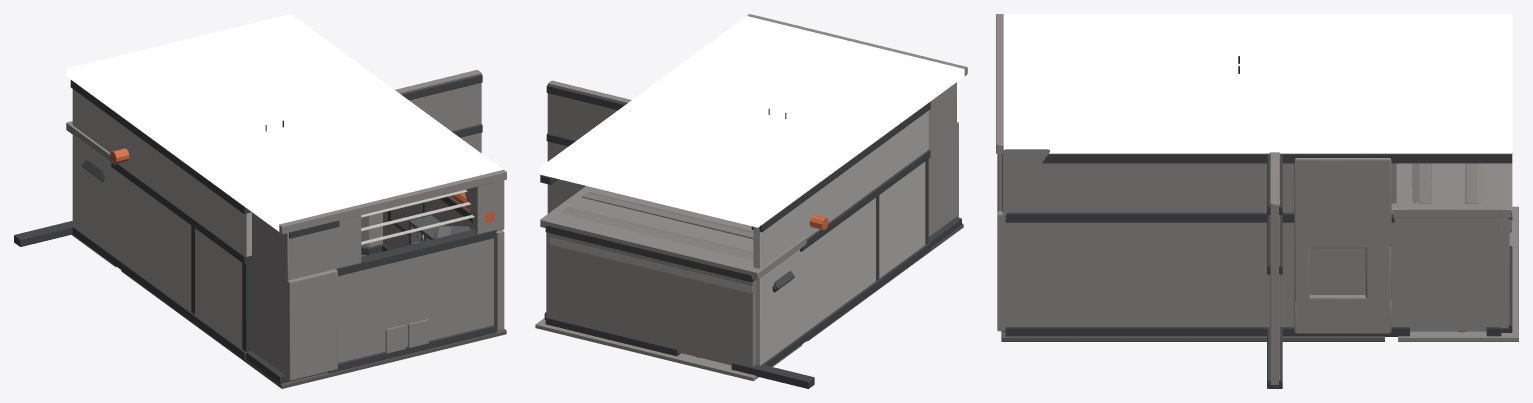
The model's file is dorm.glb.
3 renders of one model, left to right at view 1: azimuth 30°, elevation 25°; view 2: azimuth 150°, elevation 25°; view 3: azimuth 270°, elevation 25°, orthographic. The views are drawn at different scales.
Parts seen in each view (by area): view 1: Shape_RR_Box_296d570ca28e454e84300e2a2b27e744, Shape_RR_Box_612db299fadb423e86e92fe8300641c2, Shape_RR_Box_0c403b231b7a49859fe40061ffbf5c50, Shape_RR_Box_d1fa9056e4544a2c974fed830961ccbf, Shape_RR_Box_0eaa8981a69d4067b20075589670a0bf, Shape_RR_Box_79ef43ad9e264b8cbe9e8d773692763b, Shape_RR_Box_40ea04f0362d4316a57c970cd8aa5c0e, Shape_RR_Box_190550d0debb4b00b37944f42edd5640, Shape_RR_Box_c2b988c11753488aa18865d192896392, Shape_RR_Box_d264eb6652764c7ea39a82aaf5f96bf6, Shape_RR_Wedge_98f376c8d601407fb4c9484b45602702, Shape_RR_Box_f88652f9783c45ed8d22bb1a2107c9ab (+14 smaller); view 2: Shape_RR_Box_296d570ca28e454e84300e2a2b27e744, Shape_RR_Box_612db299fadb423e86e92fe8300641c2, Shape_RR_Box_9701087e24b144dab3258271420d68cf, Shape_RR_Box_fc08a5eed6474b5abdf6db42b9ad9fcd, Shape_RR_Box_79ef43ad9e264b8cbe9e8d773692763b, Shape_RR_Box_d1fa9056e4544a2c974fed830961ccbf, Shape_RR_Box_4c6b9ec3d6314bbcab8b577bb60df2e1, Shape_RR_Box_a7104d13528841ad97bf386adb44c0c9, Shape_RR_Box_d264eb6652764c7ea39a82aaf5f96bf6, Shape_RR_Box_73f9a2b5693d489b808abd1ff4f0a1ec, Shape_RR_Box_c3a3ac027c844599b5a77e73418a1bc5, Shape_RR_Box_0eaa8981a69d4067b20075589670a0bf (+11 smaller); view 3: Shape_RR_Box_296d570ca28e454e84300e2a2b27e744, Shape_RR_Box_40ea04f0362d4316a57c970cd8aa5c0e, Shape_RR_Box_df1706a1ab61470888f7c560153cd85b, Shape_RR_Box_7486c140ae504f888ce36339017853a4, Shape_RR_Box_20eaf11b83a447789e48b8e62a4dbf90, Shape_RR_Box_fc08a5eed6474b5abdf6db42b9ad9fcd, Shape_RR_Box_4839e037a59b4a87b2c014a5f57aaaef, Shape_RR_Box_22aae107a9ff4218a45e598df410e98b, Shape_RR_Box_62a0ef0af9d740439747f6e86ba9a922, Shape_RR_Box_0e0d004982de467b8094896df01b7498, Shape_RR_Box_79ef43ad9e264b8cbe9e8d773692763b, Shape_RR_Box_f88652f9783c45ed8d22bb1a2107c9ab (+8 smaller).
Part boxes in pixels (x1=…): Shape_RR_Box_296d570ca28e454e84300e2a2b27e744: x1=66, y1=14, x2=503, y2=231; Shape_RR_Box_612db299fadb423e86e92fe8300641c2: x1=72, y1=89, x2=251, y2=348; Shape_RR_Box_0c403b231b7a49859fe40061ffbf5c50: x1=338, y1=238, x2=493, y2=363; Shape_RR_Box_d1fa9056e4544a2c974fed830961ccbf: x1=252, y1=257, x2=337, y2=380; Shape_RR_Box_0eaa8981a69d4067b20075589670a0bf: x1=252, y1=212, x2=334, y2=281; Shape_RR_Box_79ef43ad9e264b8cbe9e8d773692763b: x1=369, y1=70, x2=481, y2=247; Shape_RR_Box_40ea04f0362d4316a57c970cd8aa5c0e: x1=384, y1=199, x2=504, y2=330; Shape_RR_Box_190550d0debb4b00b37944f42edd5640: x1=279, y1=169, x2=506, y2=234; Shape_RR_Box_c2b988c11753488aa18865d192896392: x1=335, y1=229, x2=496, y2=275; Shape_RR_Box_d264eb6652764c7ea39a82aaf5f96bf6: x1=72, y1=226, x2=246, y2=359; Shape_RR_Wedge_98f376c8d601407fb4c9484b45602702: x1=465, y1=180, x2=504, y2=233; Shape_RR_Box_f88652f9783c45ed8d22bb1a2107c9ab: x1=121, y1=254, x2=506, y2=388; Shape_RR_Box_296d570ca28e454e84300e2a2b27e744: x1=540, y1=16, x2=964, y2=227; Shape_RR_Box_612db299fadb423e86e92fe8300641c2: x1=753, y1=111, x2=928, y2=365; Shape_RR_Box_9701087e24b144dab3258271420d68cf: x1=546, y1=232, x2=755, y2=366; Shape_RR_Box_fc08a5eed6474b5abdf6db42b9ad9fcd: x1=540, y1=186, x2=806, y2=279; Shape_RR_Box_79ef43ad9e264b8cbe9e8d773692763b: x1=547, y1=80, x2=631, y2=213; Shape_RR_Box_d1fa9056e4544a2c974fed830961ccbf: x1=928, y1=122, x2=958, y2=236; Shape_RR_Box_4c6b9ec3d6314bbcab8b577bb60df2e1: x1=535, y1=318, x2=802, y2=381; Shape_RR_Box_a7104d13528841ad97bf386adb44c0c9: x1=549, y1=237, x2=755, y2=293; Shape_RR_Box_d264eb6652764c7ea39a82aaf5f96bf6: x1=762, y1=242, x2=930, y2=366; Shape_RR_Box_73f9a2b5693d489b808abd1ff4f0a1ec: x1=545, y1=225, x2=755, y2=282; Shape_RR_Box_c3a3ac027c844599b5a77e73418a1bc5: x1=751, y1=102, x2=930, y2=232; Shape_RR_Box_0eaa8981a69d4067b20075589670a0bf: x1=928, y1=82, x2=956, y2=145; Shape_RR_Box_296d570ca28e454e84300e2a2b27e744: x1=1003, y1=14, x2=1512, y2=153; Shape_RR_Box_40ea04f0362d4316a57c970cd8aa5c0e: x1=997, y1=211, x2=1269, y2=331; Shape_RR_Box_df1706a1ab61470888f7c560153cd85b: x1=1280, y1=218, x2=1501, y2=331; Shape_RR_Box_7486c140ae504f888ce36339017853a4: x1=1008, y1=163, x2=1294, y2=212; Shape_RR_Box_20eaf11b83a447789e48b8e62a4dbf90: x1=1294, y1=158, x2=1391, y2=248; Shape_RR_Box_fc08a5eed6474b5abdf6db42b9ad9fcd: x1=1391, y1=163, x2=1512, y2=217; Shape_RR_Box_4839e037a59b4a87b2c014a5f57aaaef: x1=1042, y1=153, x2=1512, y2=163; Shape_RR_Box_22aae107a9ff4218a45e598df410e98b: x1=1294, y1=295, x2=1391, y2=334; Shape_RR_Box_62a0ef0af9d740439747f6e86ba9a922: x1=1005, y1=327, x2=1409, y2=336; Shape_RR_Box_0e0d004982de467b8094896df01b7498: x1=1005, y1=212, x2=1394, y2=222; Shape_RR_Box_79ef43ad9e264b8cbe9e8d773692763b: x1=1269, y1=152, x2=1280, y2=384; Shape_RR_Box_f88652f9783c45ed8d22bb1a2107c9ab: x1=1001, y1=331, x2=1384, y2=341.
Size of the model in its own units: 9.61 by 4.5 by 9.95.
85 materials, 85 textured.
